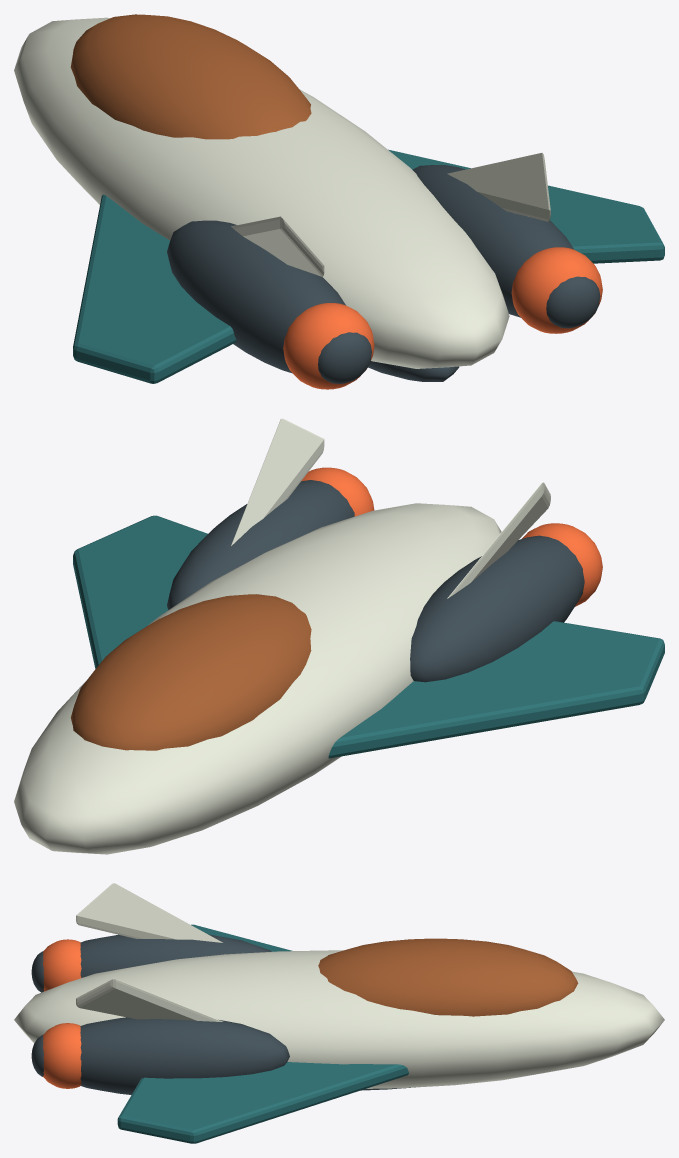
File: kite-s.glb
3 views of the same model, one above another, from view 1: azimuth 30°, elevation 25°; view 2: azimuth 150°, elevation 25°; view 3: azimuth 270°, elevation 25° (orthographic). The views are drawn at different scales.
Visible parts, largest first — view 1: Pressure hull, Navigation blister, Swept radiator, Gimballed nacelle, Gimballed nacelle.001, Swept radiator.001, Aft nozzle collar, Aft nozzle collar.001, Thruster vane.001, Thruster vane, Exhaust throat, Exhaust throat.001 (+1 smaller); view 2: Pressure hull, Navigation blister, Swept radiator, Gimballed nacelle, Swept radiator.001, Gimballed nacelle.001, Thruster vane.001, Thruster vane, Aft nozzle collar, Aft nozzle collar.001; view 3: Pressure hull, Navigation blister, Swept radiator.001, Gimballed nacelle.001, Gimballed nacelle, Thruster vane, Thruster vane.001, Aft nozzle collar.001, Aft nozzle collar, Swept radiator, Exhaust throat, Exhaust throat.001.
Boxes of the visible parts, <box> form: Pressure hull: <box>14,17,509,368</box>; Navigation blister: <box>70,14,311,139</box>; Swept radiator: <box>73,194,236,383</box>; Gimballed nacelle: <box>167,220,345,373</box>; Gimballed nacelle.001: <box>412,165,574,317</box>; Swept radiator.001: <box>388,149,664,263</box>; Aft nozzle collar: <box>283,303,374,389</box>; Aft nozzle collar.001: <box>511,247,602,333</box>; Thruster vane.001: <box>447,153,550,221</box>; Thruster vane: <box>231,216,324,276</box>; Exhaust throat: <box>318,332,371,383</box>; Exhaust throat.001: <box>546,276,600,328</box>; Pressure hull: <box>14,503,501,854</box>; Navigation blister: <box>70,594,311,750</box>; Swept radiator: <box>328,621,664,758</box>; Gimballed nacelle: <box>410,535,584,682</box>; Swept radiator.001: <box>73,515,207,668</box>; Gimballed nacelle.001: <box>167,480,354,609</box>; Thruster vane.001: <box>231,418,324,545</box>; Thruster vane: <box>447,482,550,598</box>; Aft nozzle collar: <box>522,523,602,606</box>; Aft nozzle collar.001: <box>301,467,374,516</box>; Pressure hull: <box>14,950,664,1088</box>; Navigation blister: <box>318,938,578,1016</box>; Swept radiator.001: <box>117,1062,408,1143</box>; Gimballed nacelle.001: <box>80,1017,289,1094</box>; Gimballed nacelle: <box>80,934,271,977</box>; Thruster vane: <box>76,883,222,942</box>; Thruster vane.001: <box>76,978,222,1021</box>; Aft nozzle collar.001: <box>43,1023,81,1088</box>; Aft nozzle collar: <box>43,939,81,991</box>; Swept radiator: <box>191,924,292,951</box>; Exhaust throat: <box>31,951,43,992</box>; Exhaust throat.001: <box>31,1035,43,1076</box>.
Bounding box in the file's own units: 3.95 × 1.35 × 5.2.
